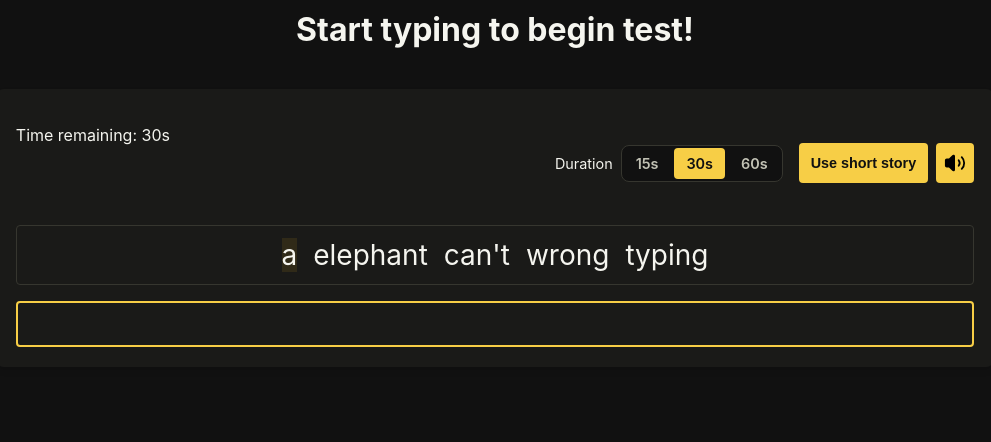
it: TypeTest Component › should toggle dictionary on button click
Click the button "Use short story". click: coordinates (863, 163)
box: top-left (799, 143), bottom-right (928, 183)
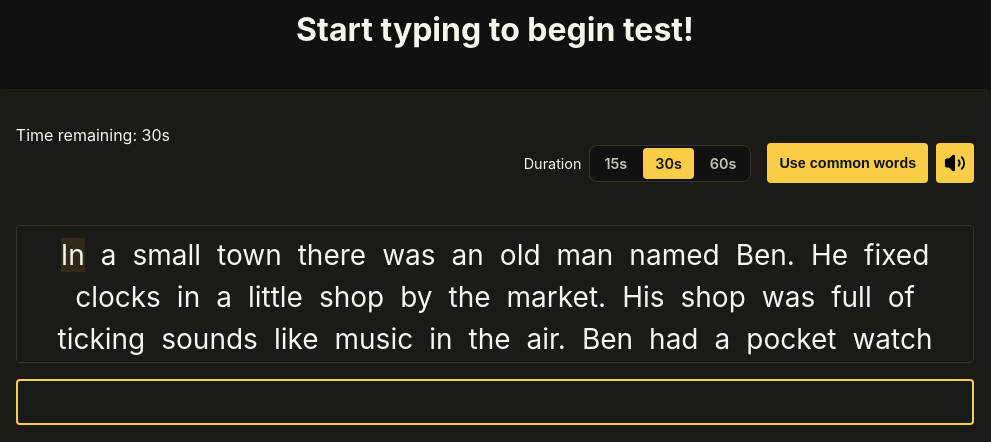
Now the button "Use common words" is shown, box top-left (767, 143), bottom-right (928, 183)
